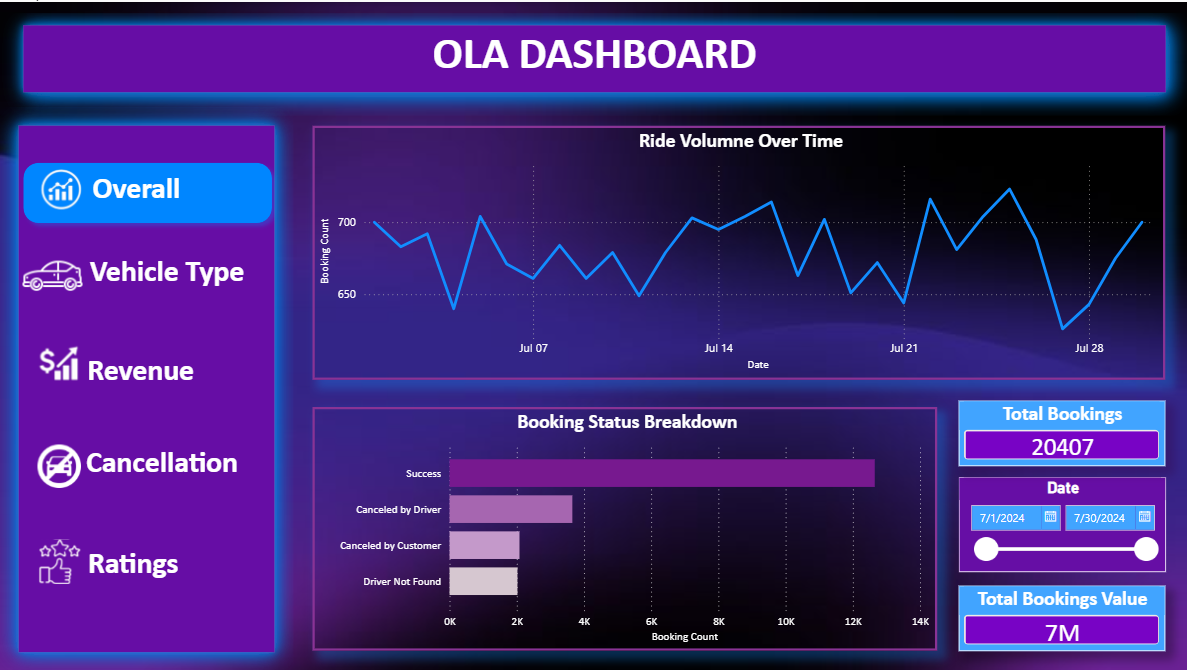

The dashboard page shown, as its layout file describes it:
{"tool":"powerbi","page":{"name":"Overall","canvas":[1280,720],"ordinal":0},"visuals":[{"type":"shape","box":[0,0,1280.6,122.2],"z":0},{"type":"textbox","box":[0,20.8,1280.6,80.6],"z":1000},{"type":"shape","box":[0,112.9,315.7,607.1],"z":2000},{"type":"textbox","box":[35.7,580.4,214.1,75.5],"z":3000},{"type":"textbox","box":[44.3,371.4,214.3,67.1],"z":4000},{"type":"textbox","box":[67.1,471.4,214.3,82.9],"z":5000},{"type":"textbox","box":[72.9,265.7,214.3,84.3],"z":6000},{"type":"shape","box":[15.7,164.3,285.7,82.9],"z":7000},{"type":"textbox","box":[13.9,176.4,266.7,80.6],"z":8000},{"type":"actionButton","box":[26.9,276,253.1,55.2],"z":9000},{"type":"actionButton","box":[36.3,371.6,222.1,66],"z":10000},{"type":"actionButton","box":[20.2,464.5,281.4,78.1],"z":11000},{"type":"actionButton","box":[46.7,580.4,197.6,65.9],"z":12000},{"type":"actionButton","box":[27.4,164.7,82.3,78.2],"z":13000},{"type":"actionButton","box":[27.4,349.9,74.1,78.2],"z":14000},{"type":"actionButton","box":[20.6,258,74.1,72.7],"z":15000},{"type":"actionButton","box":[35.7,472,59,54.9],"z":16000},{"type":"actionButton","box":[35.7,575,75.5,56.3],"z":17000},{"type":"clusteredBarChart","title":"Booking Status Breakdown","fields":{"Category":["ola bookings.Booking_Status"],"Y":["CountNonNull(ola bookings.Booking_Status)"]},"box":[336.6,436.2,673.1,262.5],"z":18000},{"type":"lineChart","title":"Ride Volumne Over Time","fields":{"Y":["CountNonNull(ola bookings.Booking_ID)"],"Category":["ola bookings.Date"]},"box":[336.6,133.3,918.1,273.3],"z":19000},{"type":"slicer","title":"Date","fields":{"Values":["ola bookings.Date"]},"box":[1032.6,511.6,223.5,102.3],"z":20000},{"type":"cardVisual","title":"Total Bookings","fields":{"Data":["CountNonNull(ola bookings.Booking_ID)"]},"box":[1032.6,429.5,222.1,70],"z":21000},{"type":"cardVisual","title":"Total Bookings Value","fields":{"Data":["Sum(ola bookings.Booking_Value)"]},"box":[1032.6,628.7,222.1,70],"z":22000}]}

Visuals, with their boxes in screenshot pixels (x1, y1, x2, y2), scaled from the page's 1280x720 canvas onto the 1187x670 screenshot:
shape: left=0, top=0, right=1186, bottom=114
textbox: left=0, top=19, right=1186, bottom=94
shape: left=0, top=105, right=293, bottom=669
textbox: left=33, top=540, right=232, bottom=610
textbox: left=41, top=346, right=240, bottom=408
textbox: left=62, top=439, right=261, bottom=516
textbox: left=68, top=247, right=266, bottom=326
shape: left=15, top=153, right=280, bottom=230
textbox: left=13, top=164, right=260, bottom=239
actionButton: left=25, top=257, right=260, bottom=308
actionButton: left=34, top=346, right=240, bottom=407
actionButton: left=19, top=432, right=280, bottom=505
actionButton: left=43, top=540, right=227, bottom=601
actionButton: left=25, top=153, right=102, bottom=226
actionButton: left=25, top=326, right=94, bottom=398
actionButton: left=19, top=240, right=88, bottom=308
actionButton: left=33, top=439, right=88, bottom=490
actionButton: left=33, top=535, right=103, bottom=587
"Booking Status Breakdown" clusteredBarChart: left=312, top=406, right=936, bottom=650
"Ride Volumne Over Time" lineChart: left=312, top=124, right=1164, bottom=378
"Date" slicer: left=958, top=476, right=1165, bottom=571
"Total Bookings" cardVisual: left=958, top=400, right=1164, bottom=465
"Total Bookings Value" cardVisual: left=958, top=585, right=1164, bottom=650
